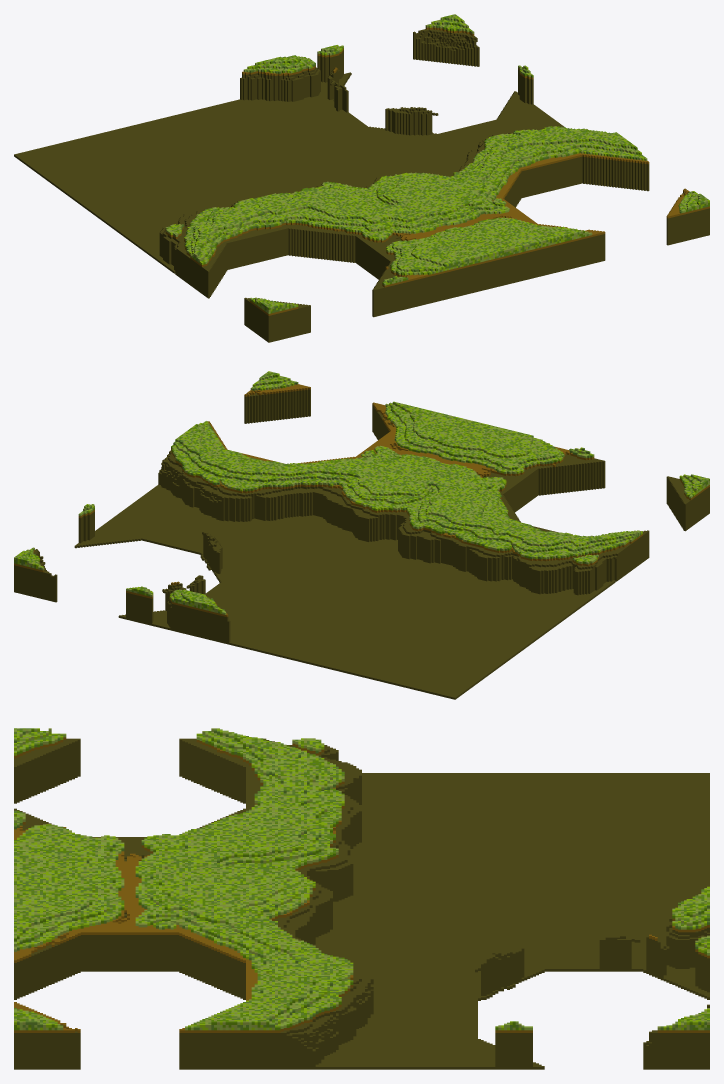
Rendered from Tab D4-0.obj.
3 views of the same model, one above another, from view 1: azimuth 30°, elevation 25°; view 2: azimuth 150°, elevation 25°; view 3: azimuth 270°, elevation 25° (orthographic). The views are drawn at different scales.
Bounding box in the file's own units: 24 × 1.8 × 24.
Materials: 1 (1 with a texture image).
